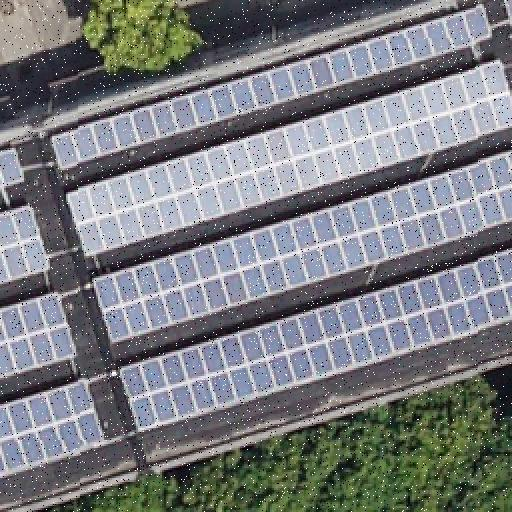solar-panel: (65, 59, 511, 261), (89, 150, 511, 342), (51, 4, 493, 168), (120, 249, 512, 431), (0, 376, 108, 476), (1, 291, 79, 381), (1, 205, 55, 283), (0, 149, 26, 187), (504, 0, 512, 28)
